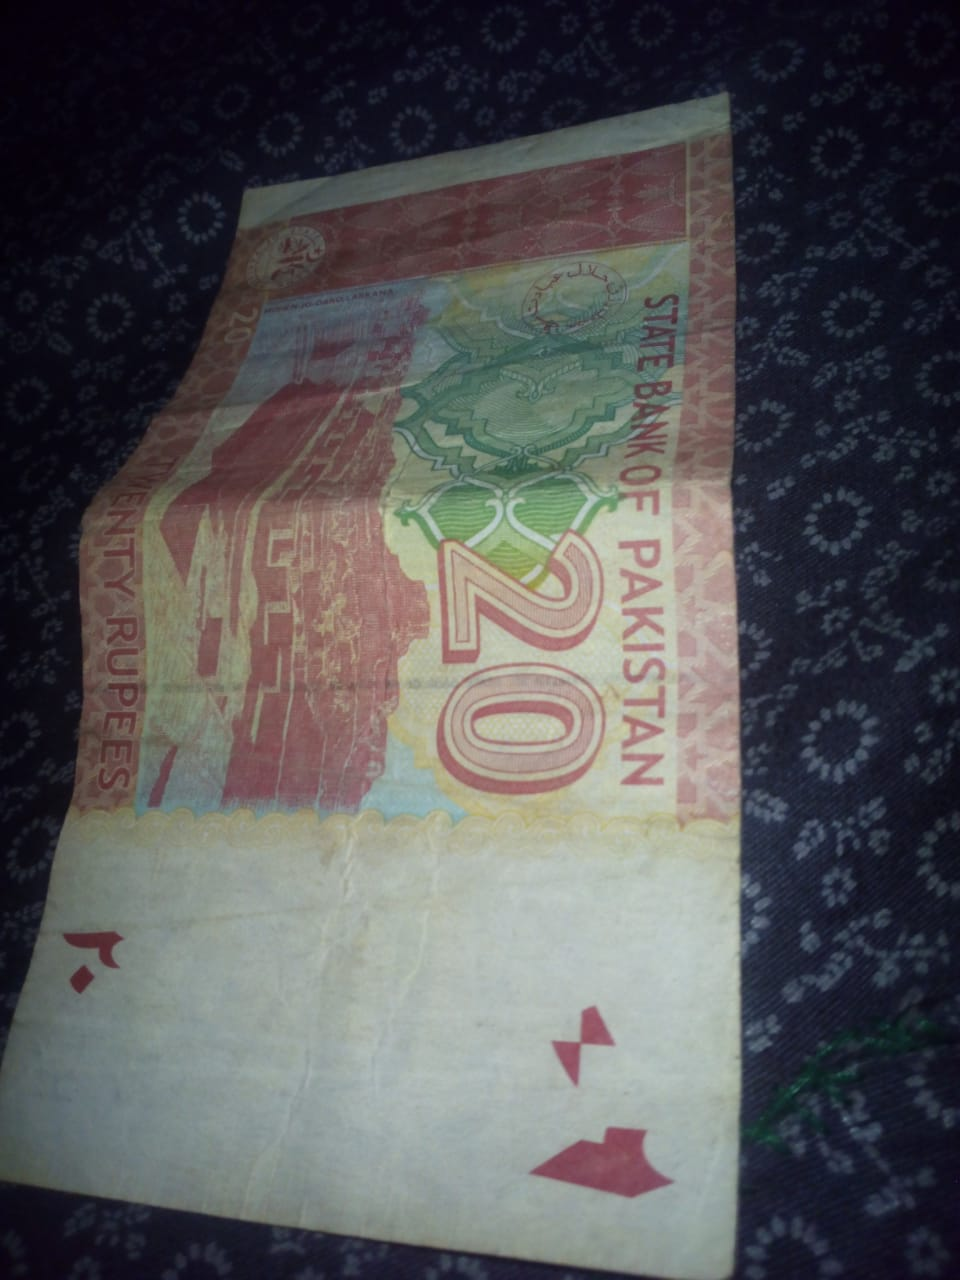20 rupee: (33, 52, 807, 1258)
